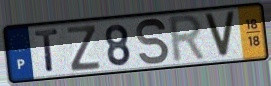8: (104, 23, 133, 67)
R: (168, 12, 208, 66)
S: (135, 17, 171, 67)
T: (33, 27, 61, 74)
V: (202, 10, 238, 59)
Z: (66, 24, 102, 73)
